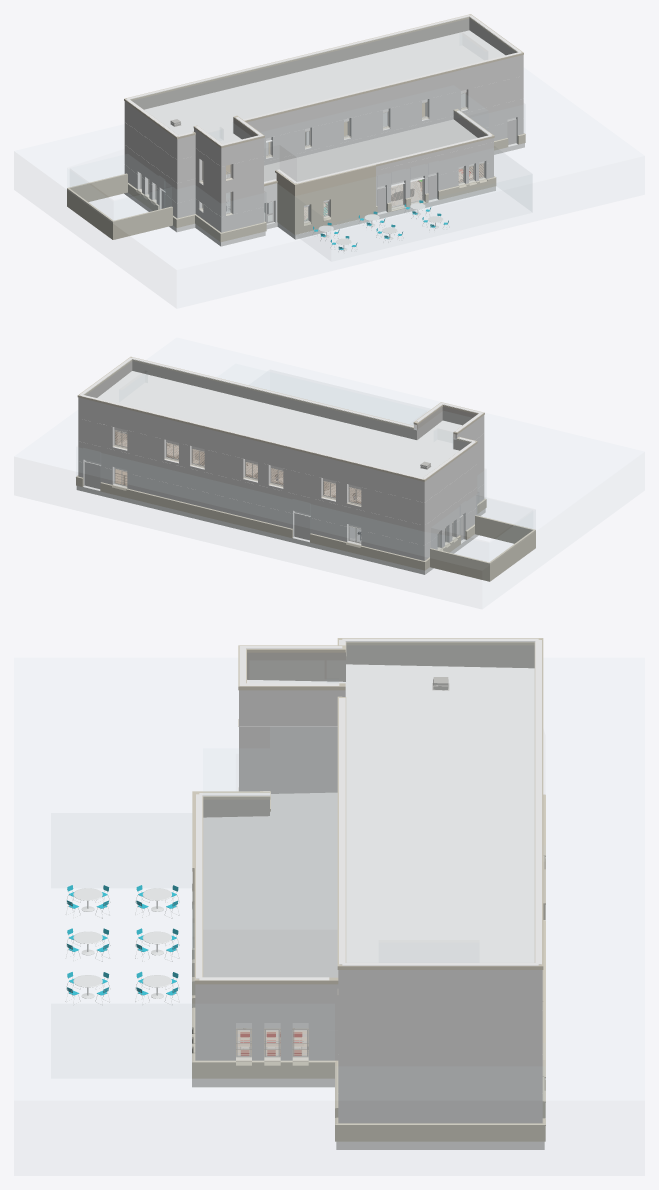
3 renders of one model, top to bottom at view 1: azimuth 30°, elevation 25°; view 2: azimuth 150°, elevation 25°; view 3: azimuth 270°, elevation 25°, orthographic. The views are drawn at different scales.
Parts seen in each view (by area): view 1: 1XHthsZgHAF8rvLrKb_1ql, 17mGjEckr5R92ZkrK3DgGy, 1XHthsZgHAF8rvLrKb_1tL, 1iA8Dyn8X26BLTV11kuxrW, 26AEIzFw9DEB1mwAQB4bi3, 1iA8Dyn8X26BLTV11kuy8r, 1iA8Dyn8X26BLTV11kuxmS, 1iA8Dyn8X26BLTV11kuy3n, 1iA8Dyn8X26BLTV11kuyCf, 1iA8Dyn8X26BLTV11kuxvV, 1iA8Dyn8X26BLTV11kuyAo, 0hMF070Hj8Qg$jhvX2Jvri (+12 smaller); view 2: 1iA8Dyn8X26BLTV11kuy96, 1XHthsZgHAF8rvLrKb_1ql, 1iA8Dyn8X26BLTV11kuy8r, 26AEIzFw9DEB1mwAQB4btt, 0Z9xcQ16n1x8vrUb24LbGG, 3nM$0AcaT8Ru4PXZ2cDlOK, 1Sx9lFNtfAtucjmqartlPC, 2uTjWaOqj4q8BZ3loXzj5L, 2uTjWaOqj4q8BZ3loXzjB_, 0hMF070Hj8Qg$jhvX2Jv$Y, 0hMF070Hj8Qg$jhvX2Jvri, 2uTjWaOqj4q8BZ3loXzjAV (+11 smaller); view 3: 1XHthsZgHAF8rvLrKb_1ql, 1iA8Dyn8X26BLTV11kuxtP, 1XHthsZgHAF8rvLrKb_1tL, 17mGjEckr5R92ZkrK3DgTF, 1iA8Dyn8X26BLTV11kuxoa, 26AEIzFw9DEB1mwAQB4b29, 1iA8Dyn8X26BLTV11kuyeN, 26AEIzFw9DEB1mwAQB4b_S, 0hMF070Hj8Qg$jhvX2Jvrk, 1pWcEILFv2Owm$hIMqi65X, 0hMF070Hj8Qg$jhvX2Jv$i, 0Z9xcQ16n1x8vrUb24LbJk (+11 smaller).
Boxes of the visible parts, <box> form: 1XHthsZgHAF8rvLrKb_1ql: <box>144,30,505,143</box>; 17mGjEckr5R92ZkrK3DgGy: <box>247,71,456,165</box>; 1XHthsZgHAF8rvLrKb_1tL: <box>264,119,477,181</box>; 1iA8Dyn8X26BLTV11kuxrW: <box>457,55,523,140</box>; 26AEIzFw9DEB1mwAQB4bi3: <box>132,18,469,109</box>; 1iA8Dyn8X26BLTV11kuy8r: <box>124,101,176,217</box>; 1iA8Dyn8X26BLTV11kuxmS: <box>376,138,493,205</box>; 1iA8Dyn8X26BLTV11kuy3n: <box>221,138,263,232</box>; 1iA8Dyn8X26BLTV11kuyCf: <box>194,128,221,232</box>; 1iA8Dyn8X26BLTV11kuxvV: <box>330,167,375,226</box>; 1iA8Dyn8X26BLTV11kuyAo: <box>177,135,195,218</box>; 0hMF070Hj8Qg$jhvX2Jvri: <box>125,14,470,100</box>; 1iA8Dyn8X26BLTV11kuy96: <box>78,397,424,560</box>; 1XHthsZgHAF8rvLrKb_1ql: <box>97,371,461,477</box>; 1iA8Dyn8X26BLTV11kuy8r: <box>424,444,476,560</box>; 26AEIzFw9DEB1mwAQB4btt: <box>132,361,417,439</box>; 0Z9xcQ16n1x8vrUb24LbGG: <box>76,486,423,574</box>; 3nM$0AcaT8Ru4PXZ2cDlOK: <box>126,490,292,537</box>; 1Sx9lFNtfAtucjmqartlPC: <box>83,427,361,544</box>; 2uTjWaOqj4q8BZ3loXzj5L: <box>430,548,490,581</box>; 2uTjWaOqj4q8BZ3loXzjB_: <box>475,515,533,543</box>; 0hMF070Hj8Qg$jhvX2Jv$Y: <box>131,356,413,429</box>; 0hMF070Hj8Qg$jhvX2Jvri: <box>77,395,424,481</box>; 2uTjWaOqj4q8BZ3loXzjAV: <box>489,529,535,580</box>; 1XHthsZgHAF8rvLrKb_1ql: <box>247,664,534,962</box>; 1iA8Dyn8X26BLTV11kuxtP: <box>339,970,541,1123</box>; 1XHthsZgHAF8rvLrKb_1tL: <box>203,792,338,977</box>; 17mGjEckr5R92ZkrK3DgTF: <box>239,690,345,793</box>; 1iA8Dyn8X26BLTV11kuxoa: <box>195,984,338,1060</box>; 26AEIzFw9DEB1mwAQB4b29: <box>346,645,534,668</box>; 1iA8Dyn8X26BLTV11kuyeN: <box>335,1126,545,1141</box>; 26AEIzFw9DEB1mwAQB4b_S: <box>247,652,345,681</box>; 0hMF070Hj8Qg$jhvX2Jvrk: <box>535,640,541,964</box>; 1pWcEILFv2Owm$hIMqi65X: <box>327,679,479,962</box>; 0hMF070Hj8Qg$jhvX2Jv$i: <box>339,698,345,964</box>; 0Z9xcQ16n1x8vrUb24LbJk: <box>336,1141,541,1149</box>.
Bounding box in the file's own units: 48 × 9.77 × 28.9.
